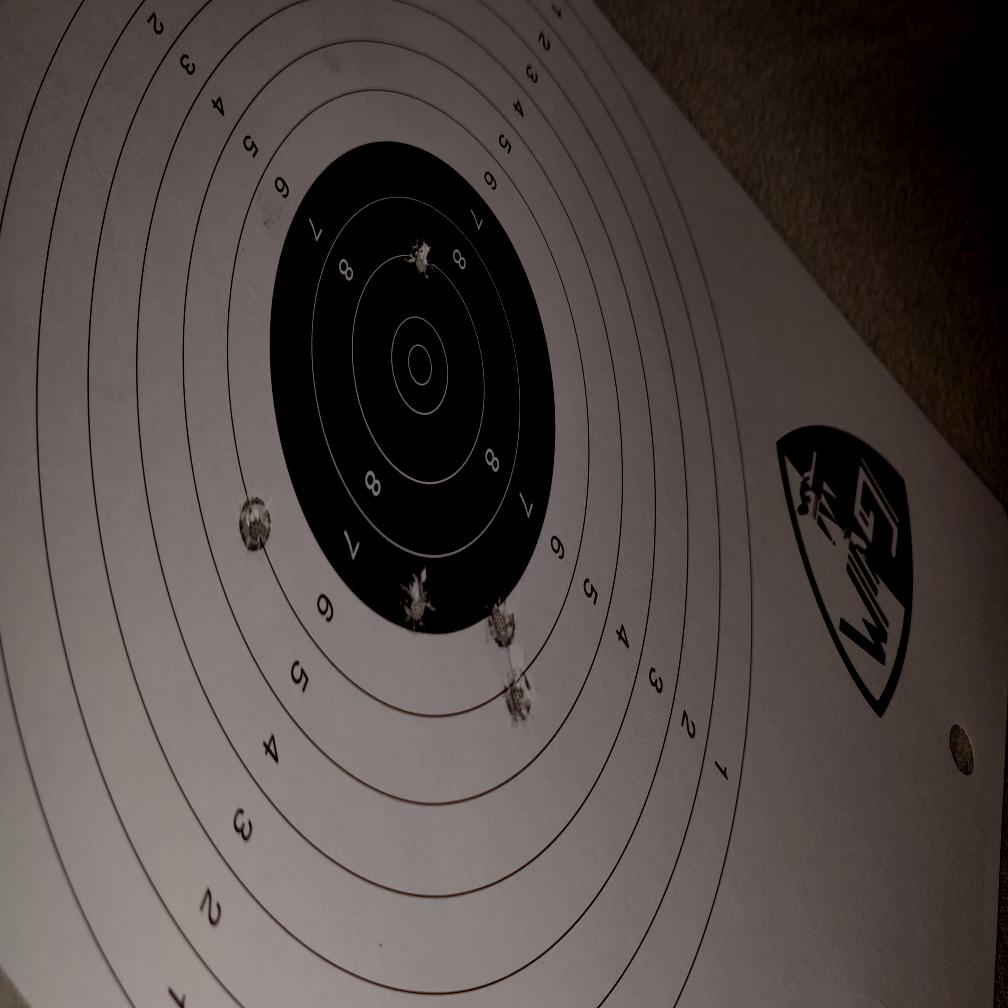6: (238, 494, 272, 555), (502, 666, 532, 725)
7: (399, 565, 435, 633), (484, 590, 516, 649)
9: (402, 230, 436, 283)
Target: (0, 0, 753, 1008)
black_contour: (271, 140, 555, 634)
